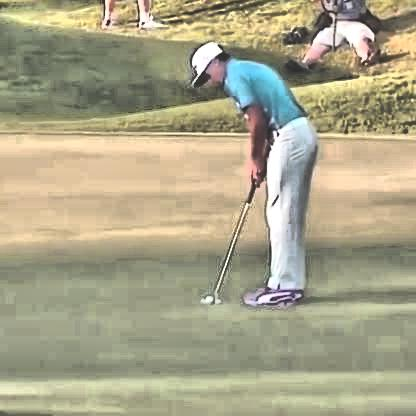golfball: (201, 295, 212, 305)
